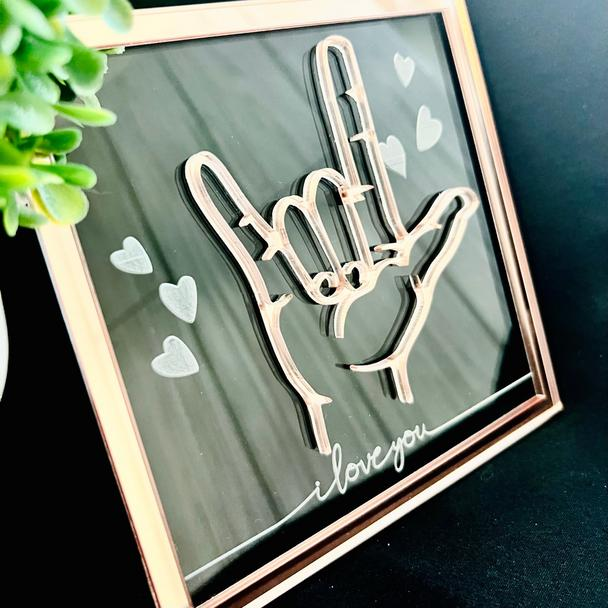Love_you: (164, 33, 471, 420)
